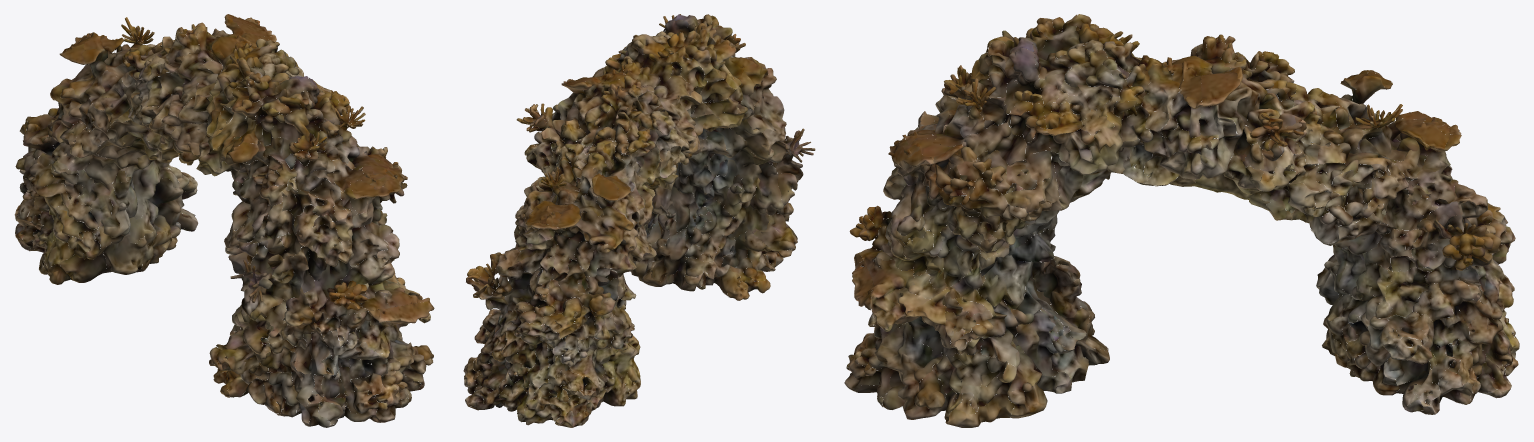
The model's file is ReefRockArch.glb.
The picture shows the model from 3 angles, left to right: view 1: azimuth 30°, elevation 25°; view 2: azimuth 150°, elevation 25°; view 3: azimuth 270°, elevation 25°; orthographic projection. The views are drawn at different scales.
Parts seen in each view (by area): view 1: tripo_node_b1896b29-f845-466a-a016-b3ae47249933; view 2: tripo_node_b1896b29-f845-466a-a016-b3ae47249933; view 3: tripo_node_b1896b29-f845-466a-a016-b3ae47249933.
Boxes of the visible parts, x1,y1,x2,y2 form: tripo_node_b1896b29-f845-466a-a016-b3ae47249933: (14, 14, 434, 427); tripo_node_b1896b29-f845-466a-a016-b3ae47249933: (463, 14, 815, 427); tripo_node_b1896b29-f845-466a-a016-b3ae47249933: (844, 14, 1519, 427).
Size of the model in its own units: 0.3949 by 0.5722 by 1.
1 material, 1 textured.
